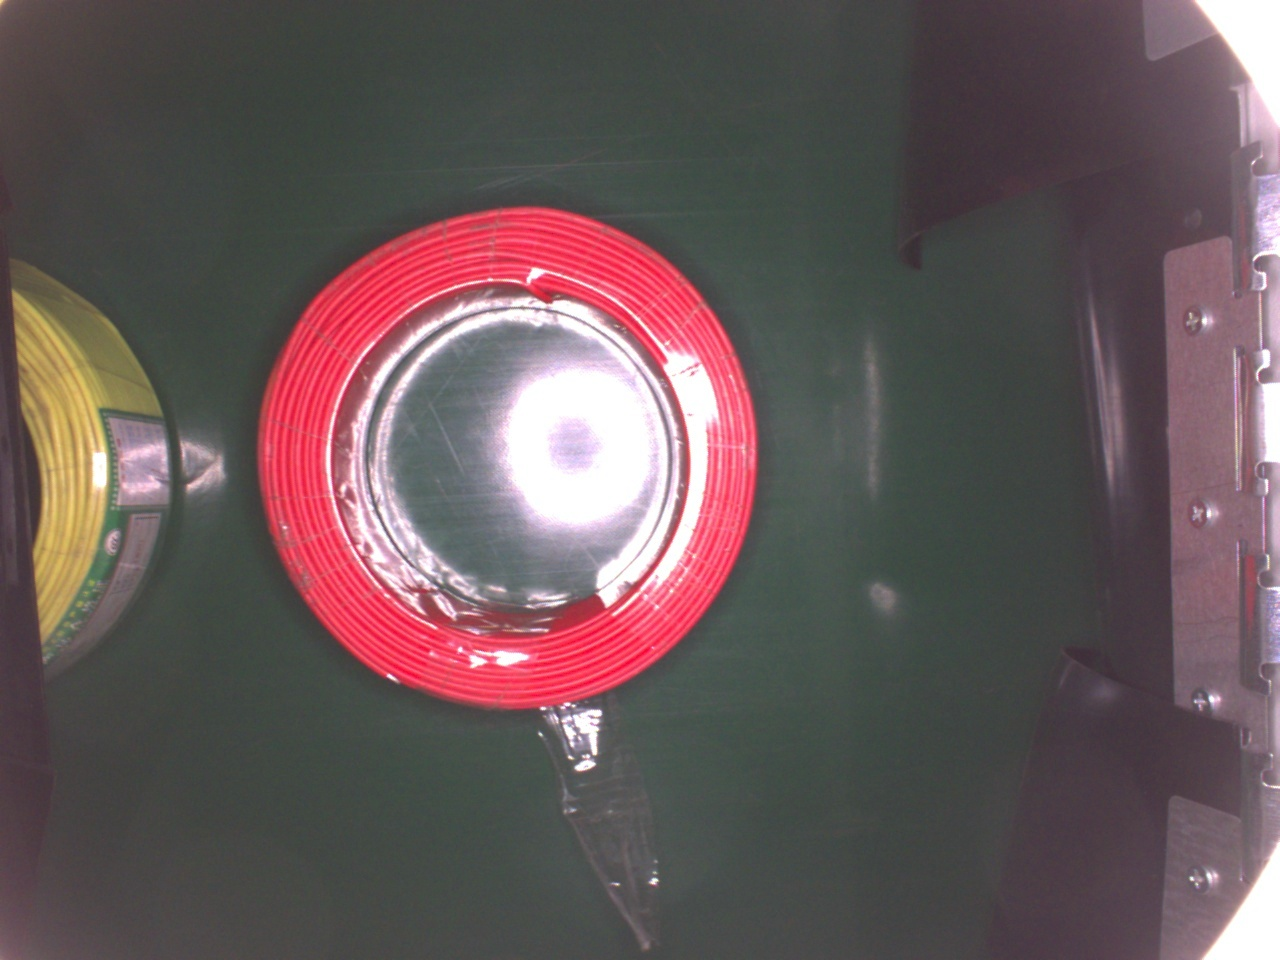red: (256, 201, 757, 723)
yellow: (5, 259, 174, 680)
